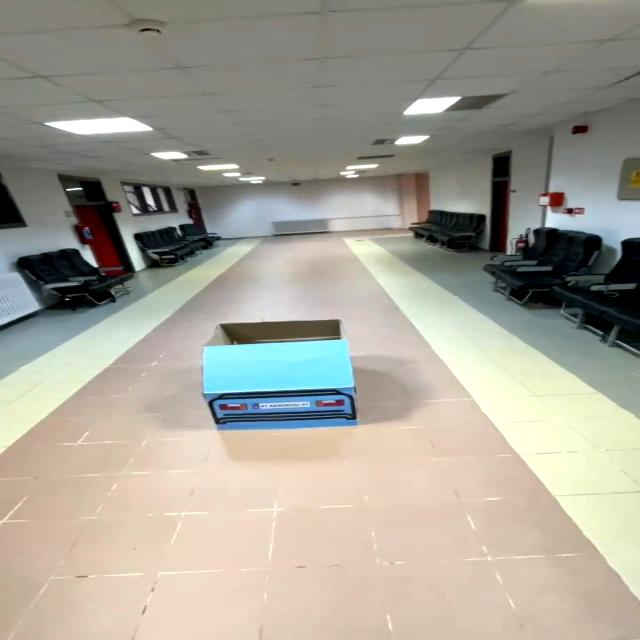blue_car: (180, 306, 384, 452)
